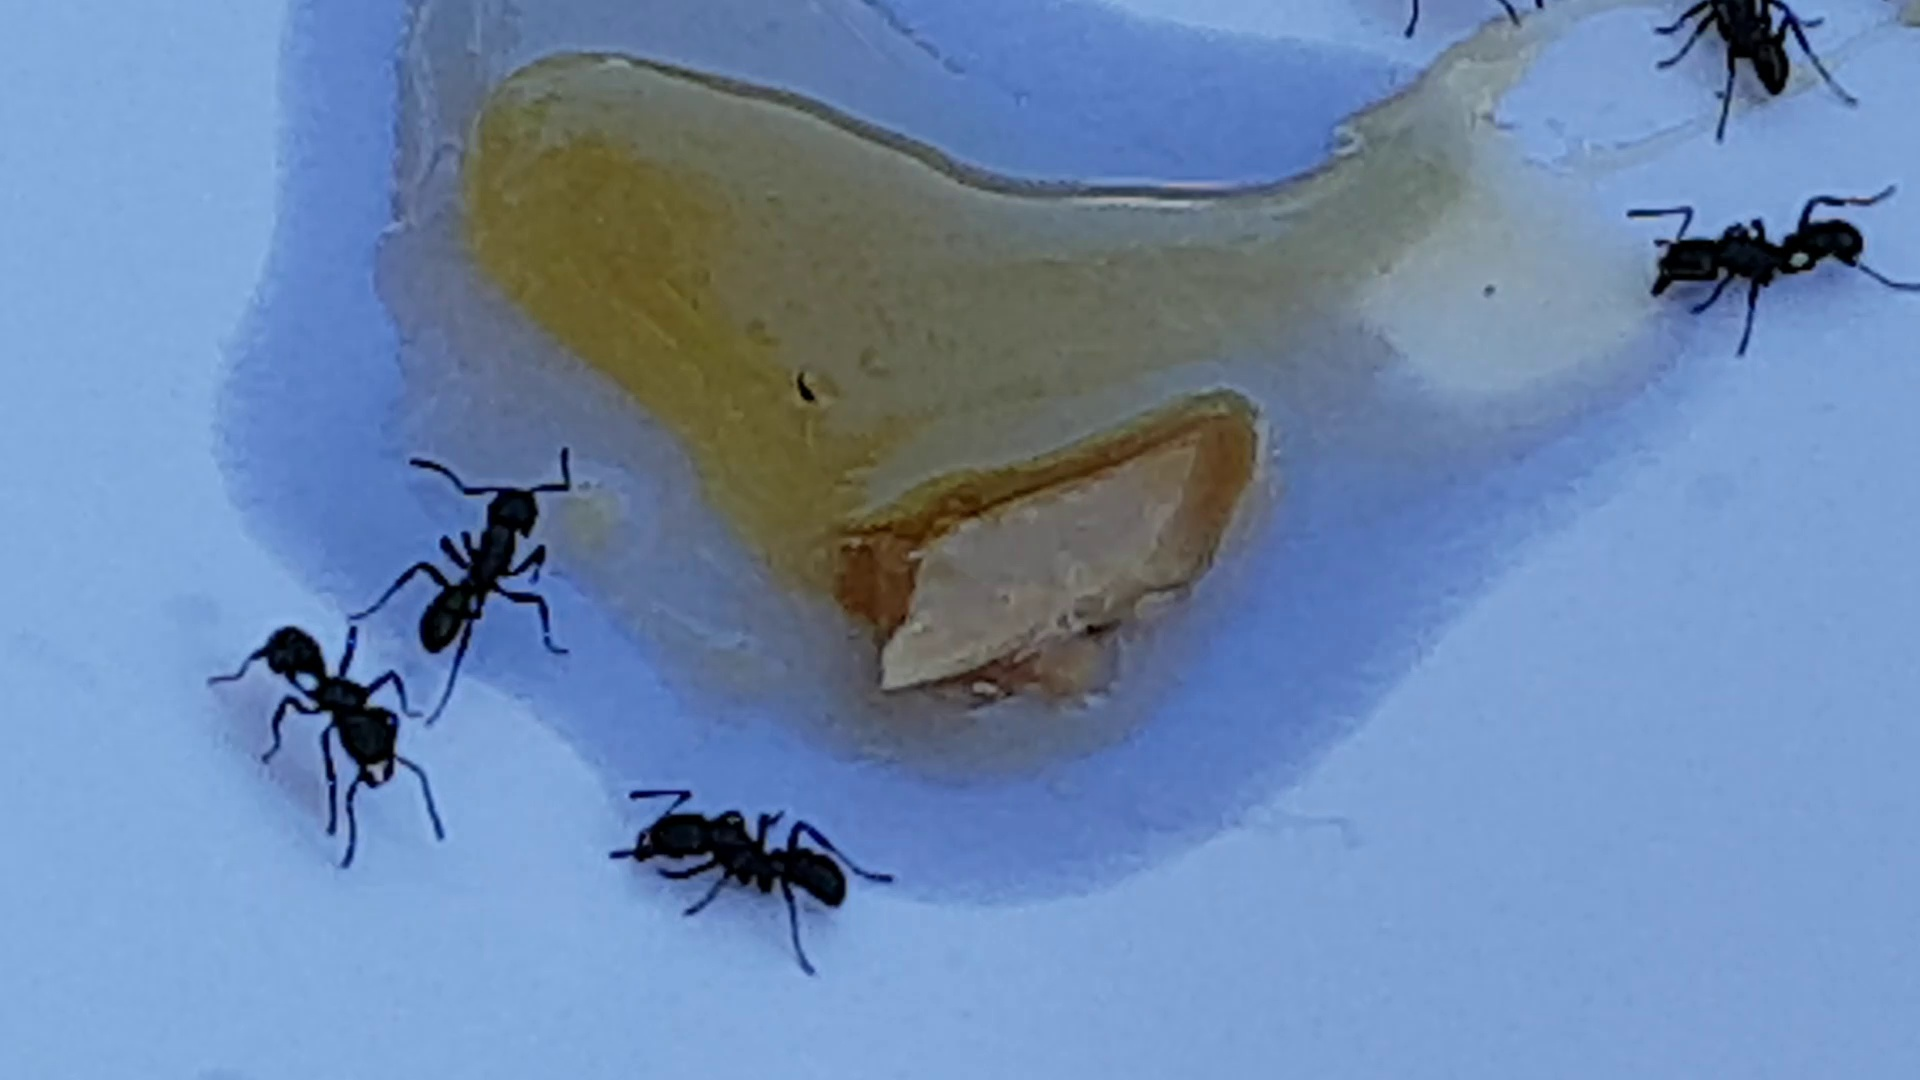sample_ants: (338, 429, 589, 735), (336, 431, 589, 735), (196, 607, 464, 866), (600, 767, 902, 984), (1619, 169, 1917, 367), (1619, 171, 1920, 367), (1629, 0, 1870, 157)
